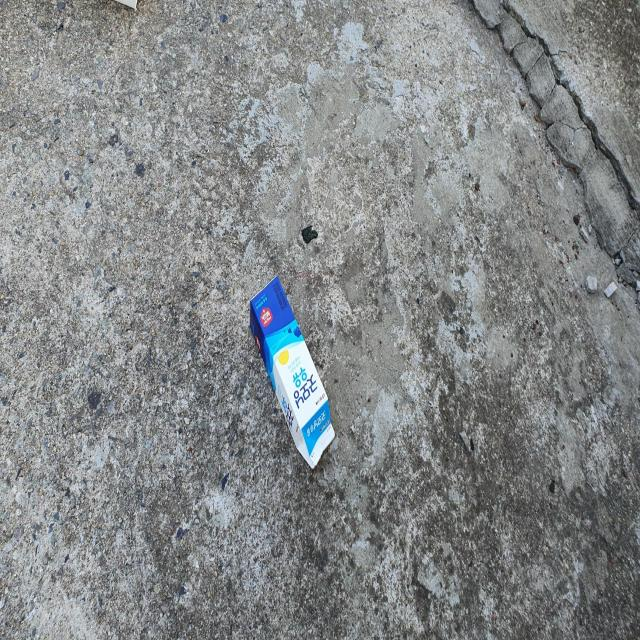paperpack: (250, 276, 335, 468)
